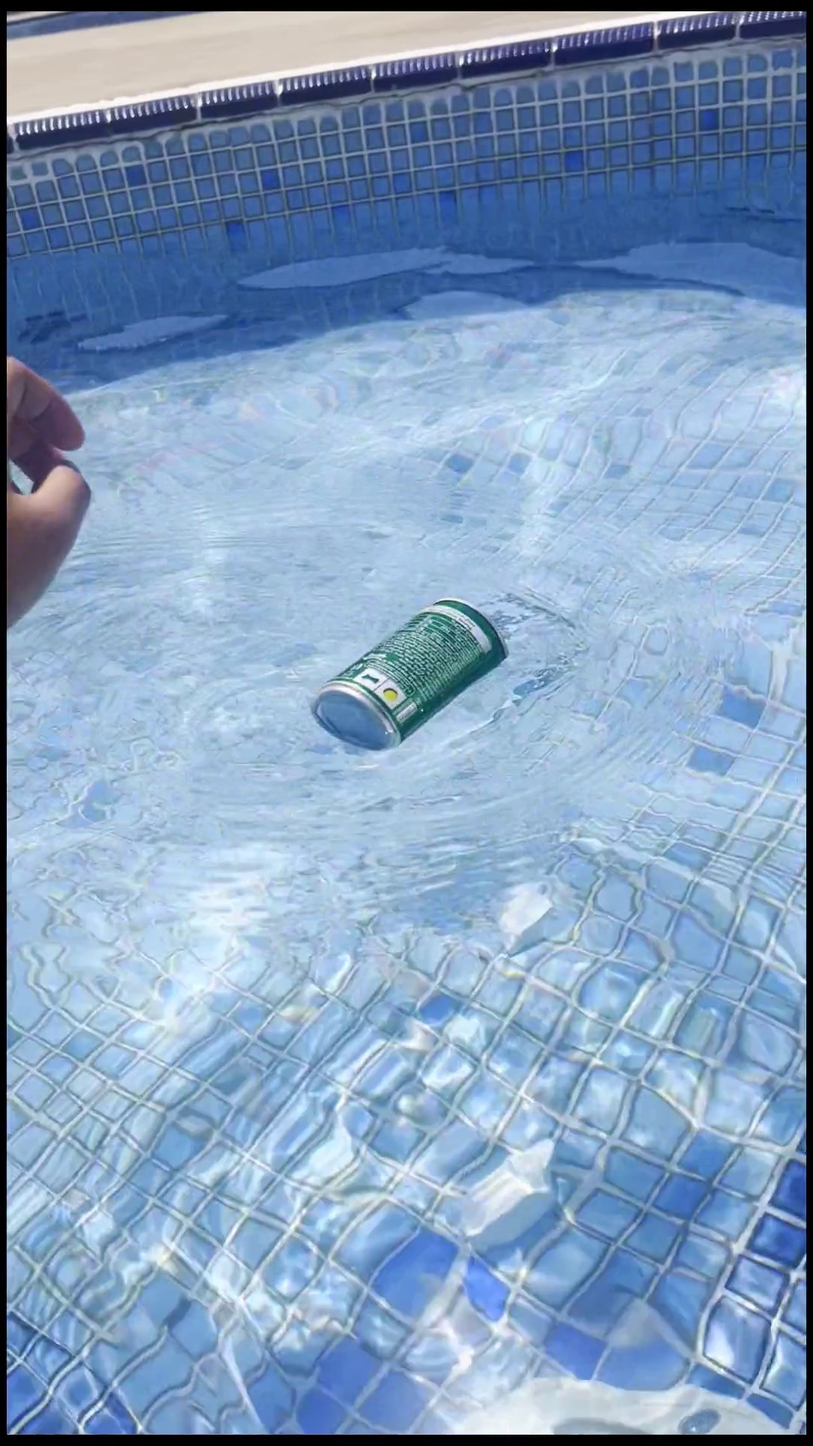debris: (302, 532, 510, 783)
